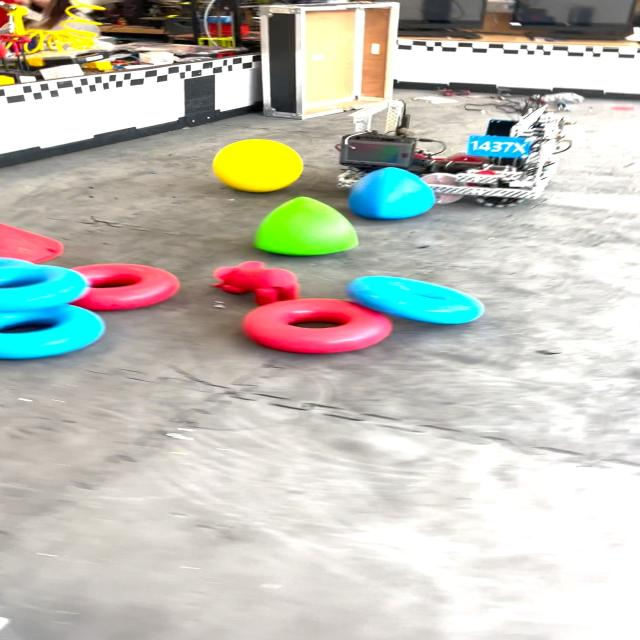Blue-Ring: (347, 276, 484, 324), (0, 305, 104, 358), (0, 261, 89, 311)
Red-Ring: (242, 299, 391, 354), (71, 264, 180, 310)
